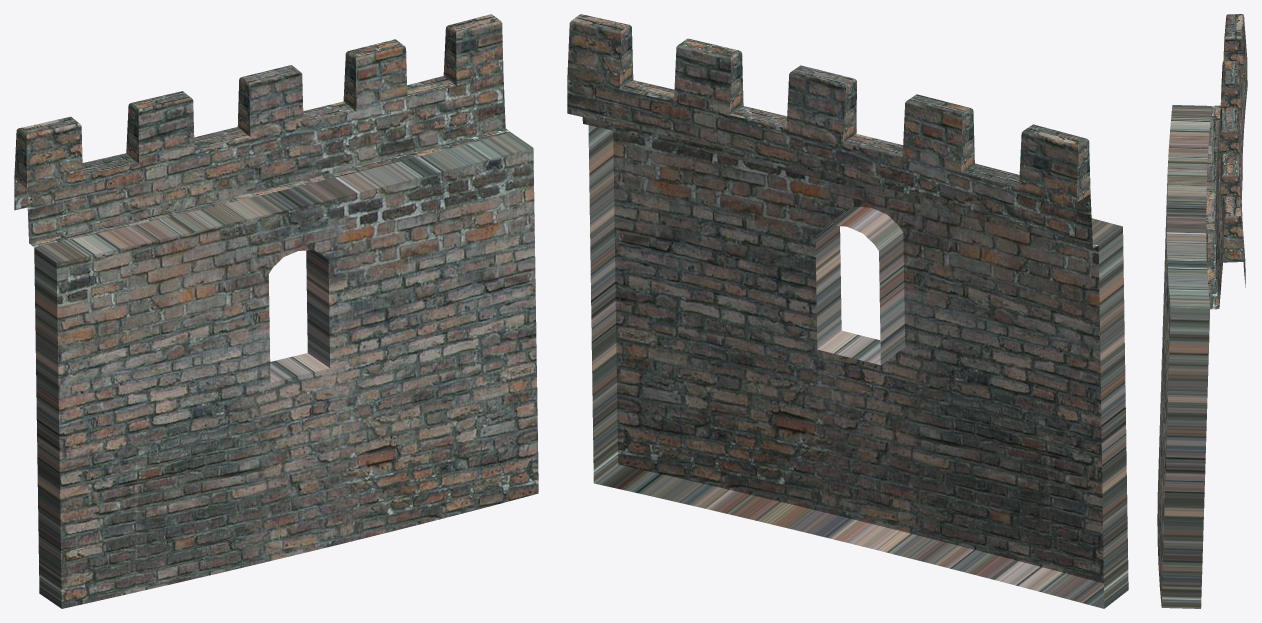
The model's file is wall new.fbx.
3 renders of one model, left to right at view 1: azimuth 30°, elevation 25°; view 2: azimuth 150°, elevation 25°; view 3: azimuth 270°, elevation 25°, orthographic. The views are drawn at different scales.
Visible parts, largest first — view 1: Object012; view 2: Object012; view 3: Object012.
Boxes of the visible parts, bbox=[...] form: Object012: bbox=[14, 14, 538, 608]; Object012: bbox=[567, 14, 1128, 608]; Object012: bbox=[1157, 14, 1247, 608].
Size of the model in its own units: 1656 by 1490 by 310.
1 material, 1 textured.
